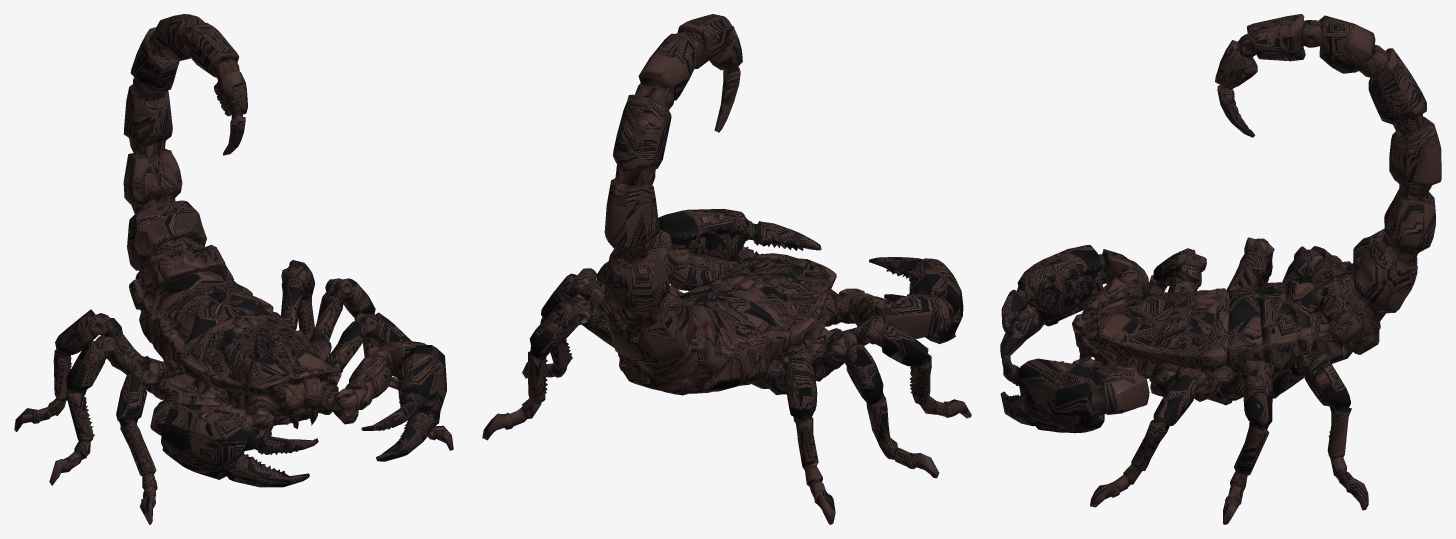
Rendered from scorpion.glb.
3 renders of one model, left to right at view 1: azimuth 30°, elevation 25°; view 2: azimuth 150°, elevation 25°; view 3: azimuth 270°, elevation 25°, orthographic. The views are drawn at different scales.
Bounding box in the file's own units: 1.9 × 1.89 × 1.83.
1 material, 1 textured.
